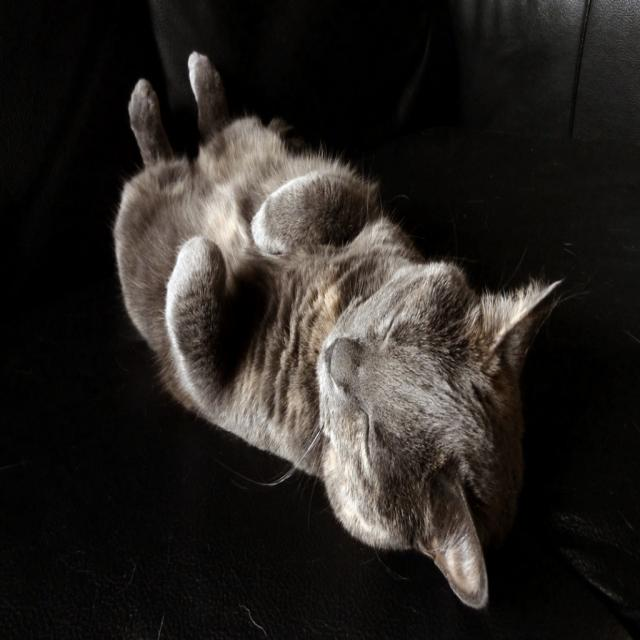Cat: (108, 51, 590, 608)
